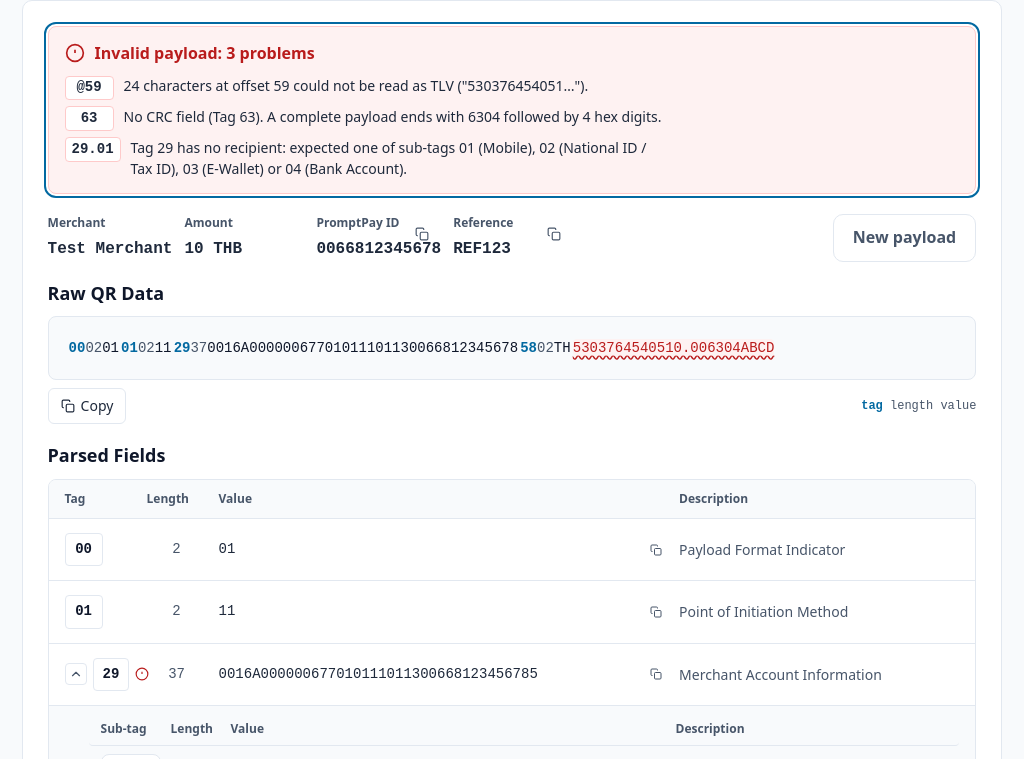
Test: QRDataDisplay Component › toggle button has correct aria-expanded attribute
Click the button named "Collapse sub-tags".
click(76, 674)  # box [65,663,87,685]
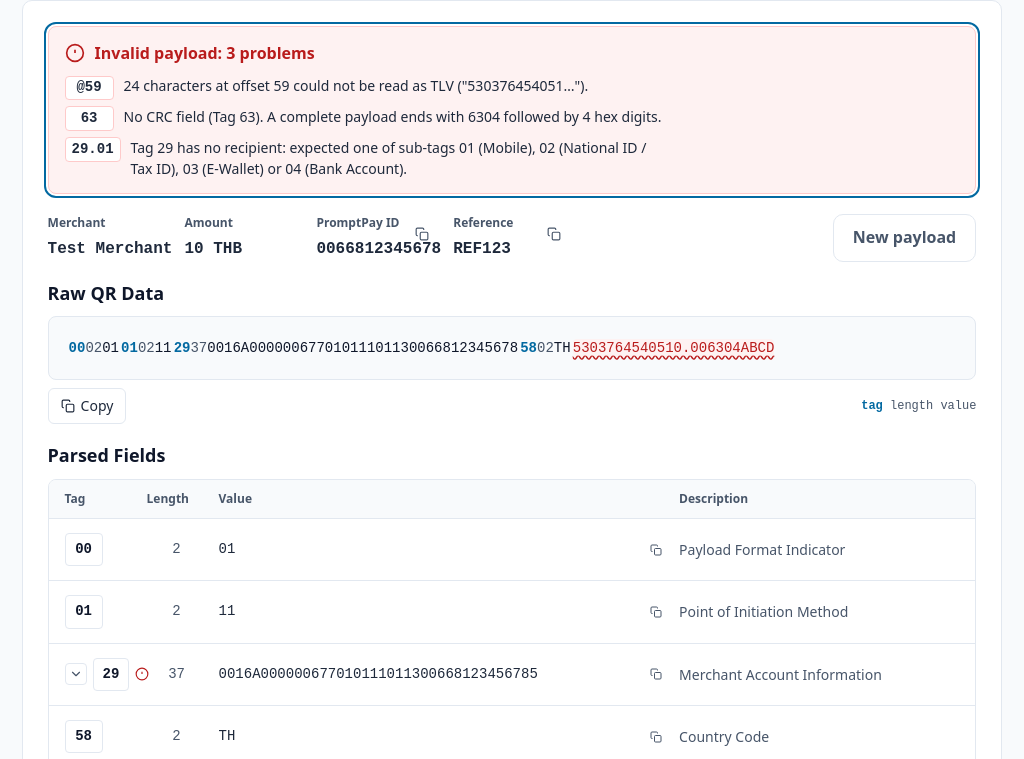
Check: the button named "Expand sub-tags" is collapsed, box [65,663,87,685]
